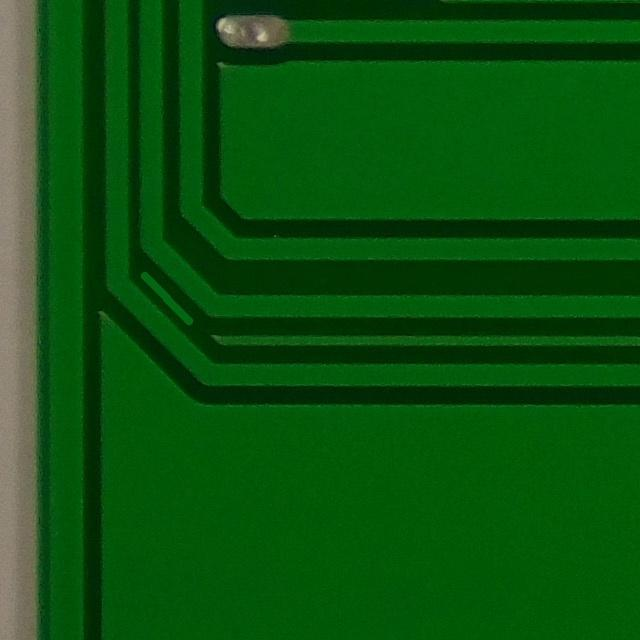spurious_copper: (130, 257, 200, 343)
